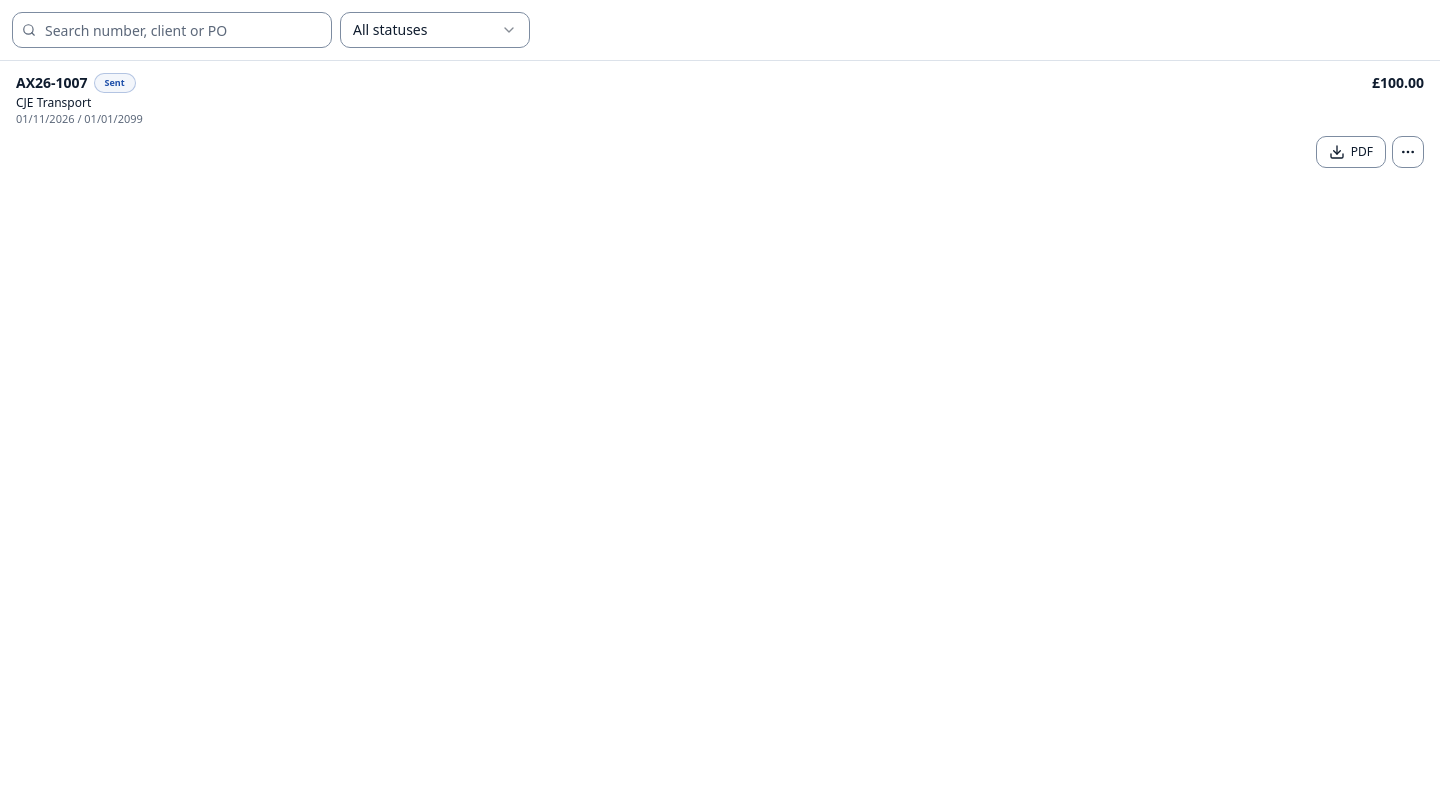
Test: invoice actions › defers an issued invoice correction for review without cancelling or crediting
Press Enter in the button named "More actions for AX26-1007", box [1392,136,1424,168]
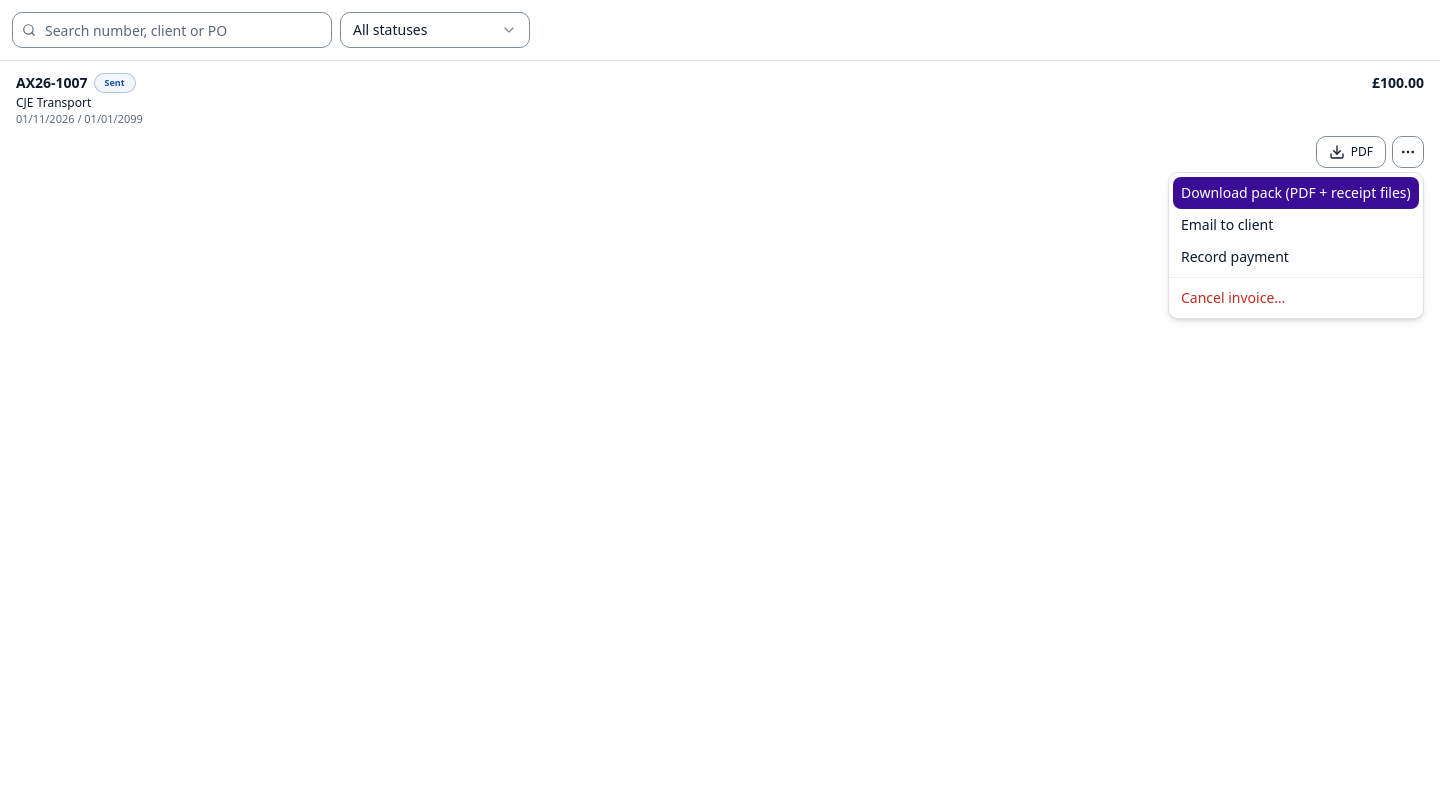
Click the menu item "Cancel invoice…": click(1233, 298) [1181,288,1285,307]
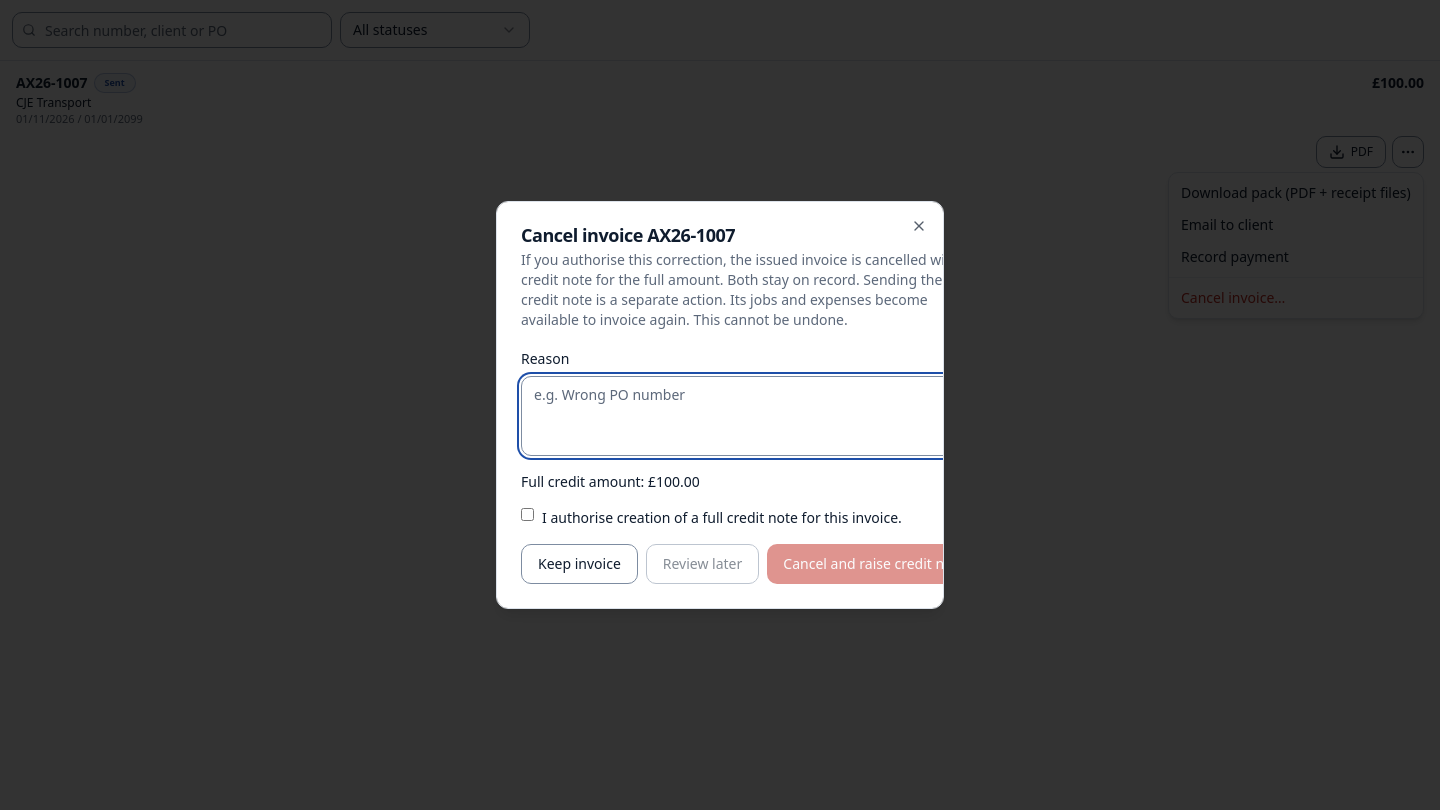
Check: the button "Review later" is disabled, box [646,544,759,584]
In the text box labelled "Reason": (751, 416) [521,376,982,456], type "  Check PO with client  "
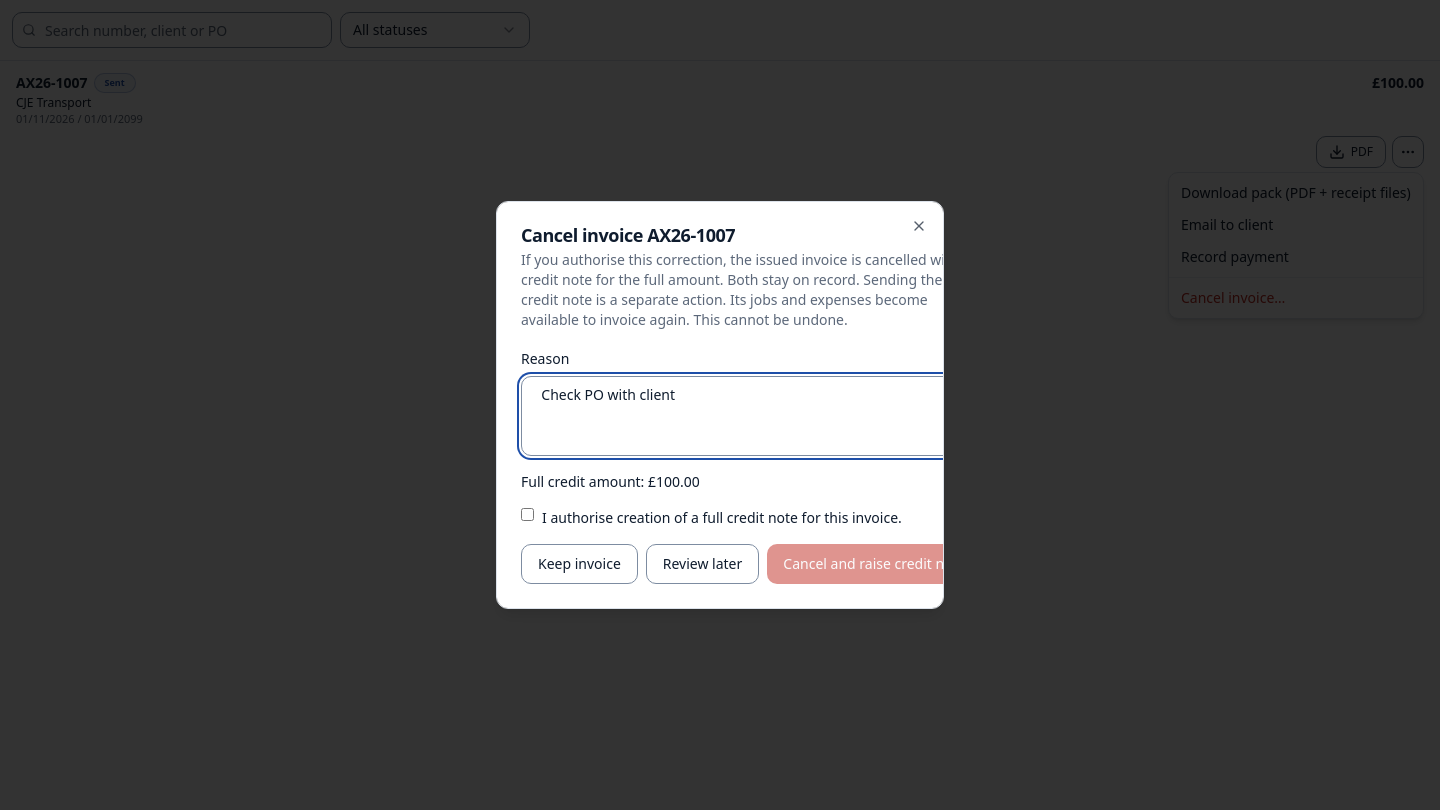
Check: the button "Review later" is enabled
Click the button "Review later": click(703, 564) [646,544,759,584]
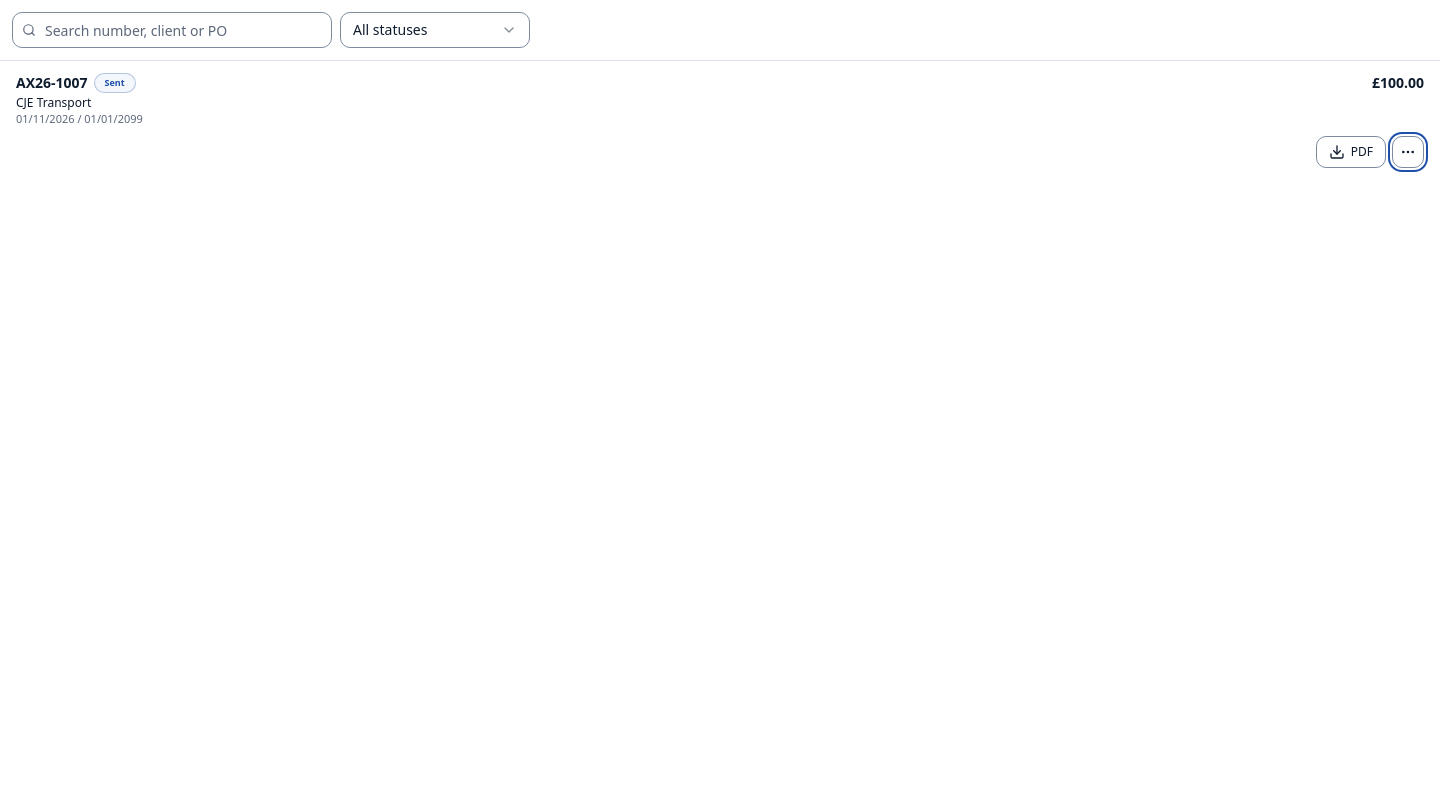
Check: the dialog is gone
